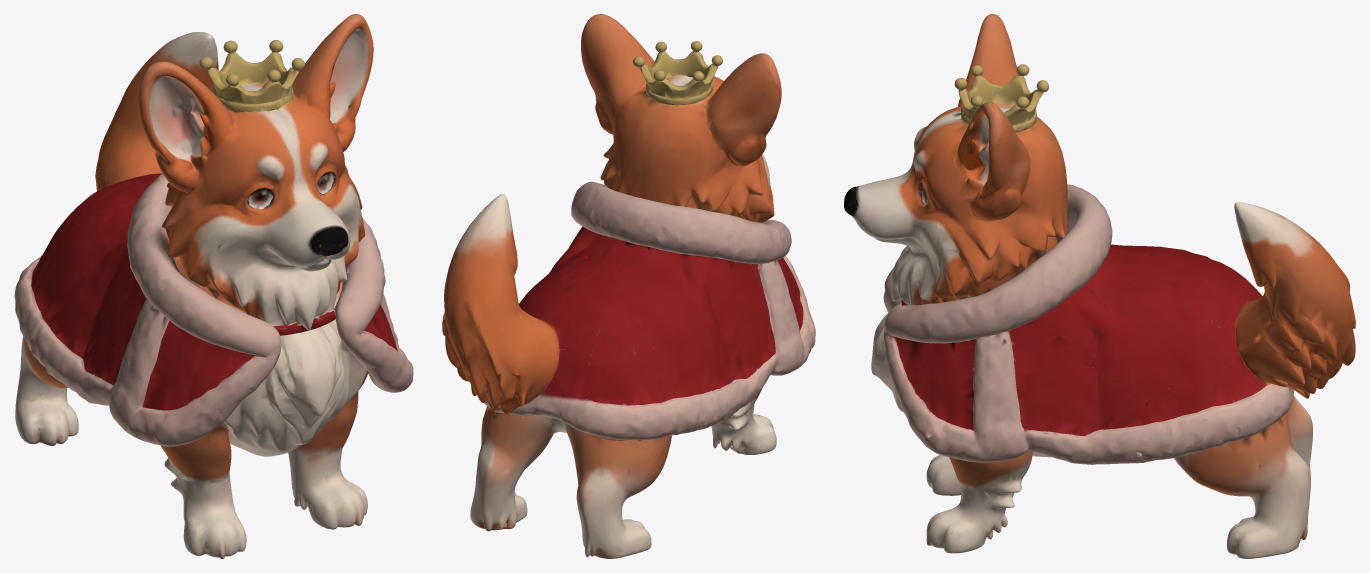
The model's file is detail_8.glb.
3 views of the same model, side by side, from view 1: azimuth 30°, elevation 25°; view 2: azimuth 150°, elevation 25°; view 3: azimuth 270°, elevation 25° (orthographic). The views are drawn at different scales.
Bounding box in the file's own units: 0.586 × 0.9764 × 0.9931.
1 material, 1 textured.
